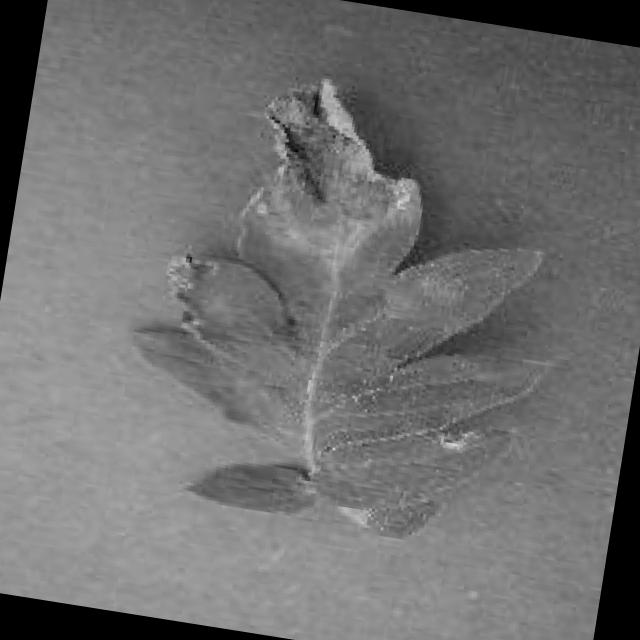leaf blight: (131, 78, 563, 535)
